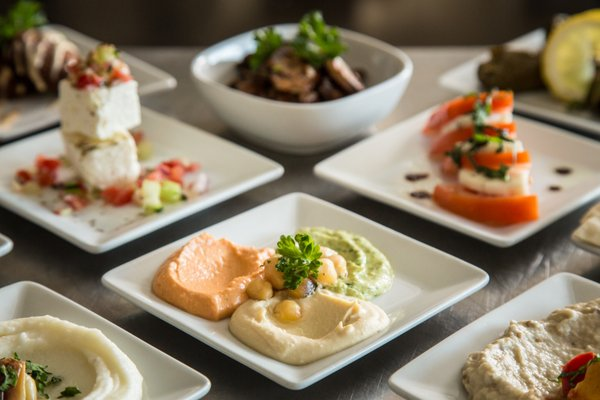curry: (273, 232, 326, 290)
soup: (420, 87, 540, 224), (457, 296, 599, 397)
sushi: (190, 11, 414, 155), (0, 315, 141, 399)
